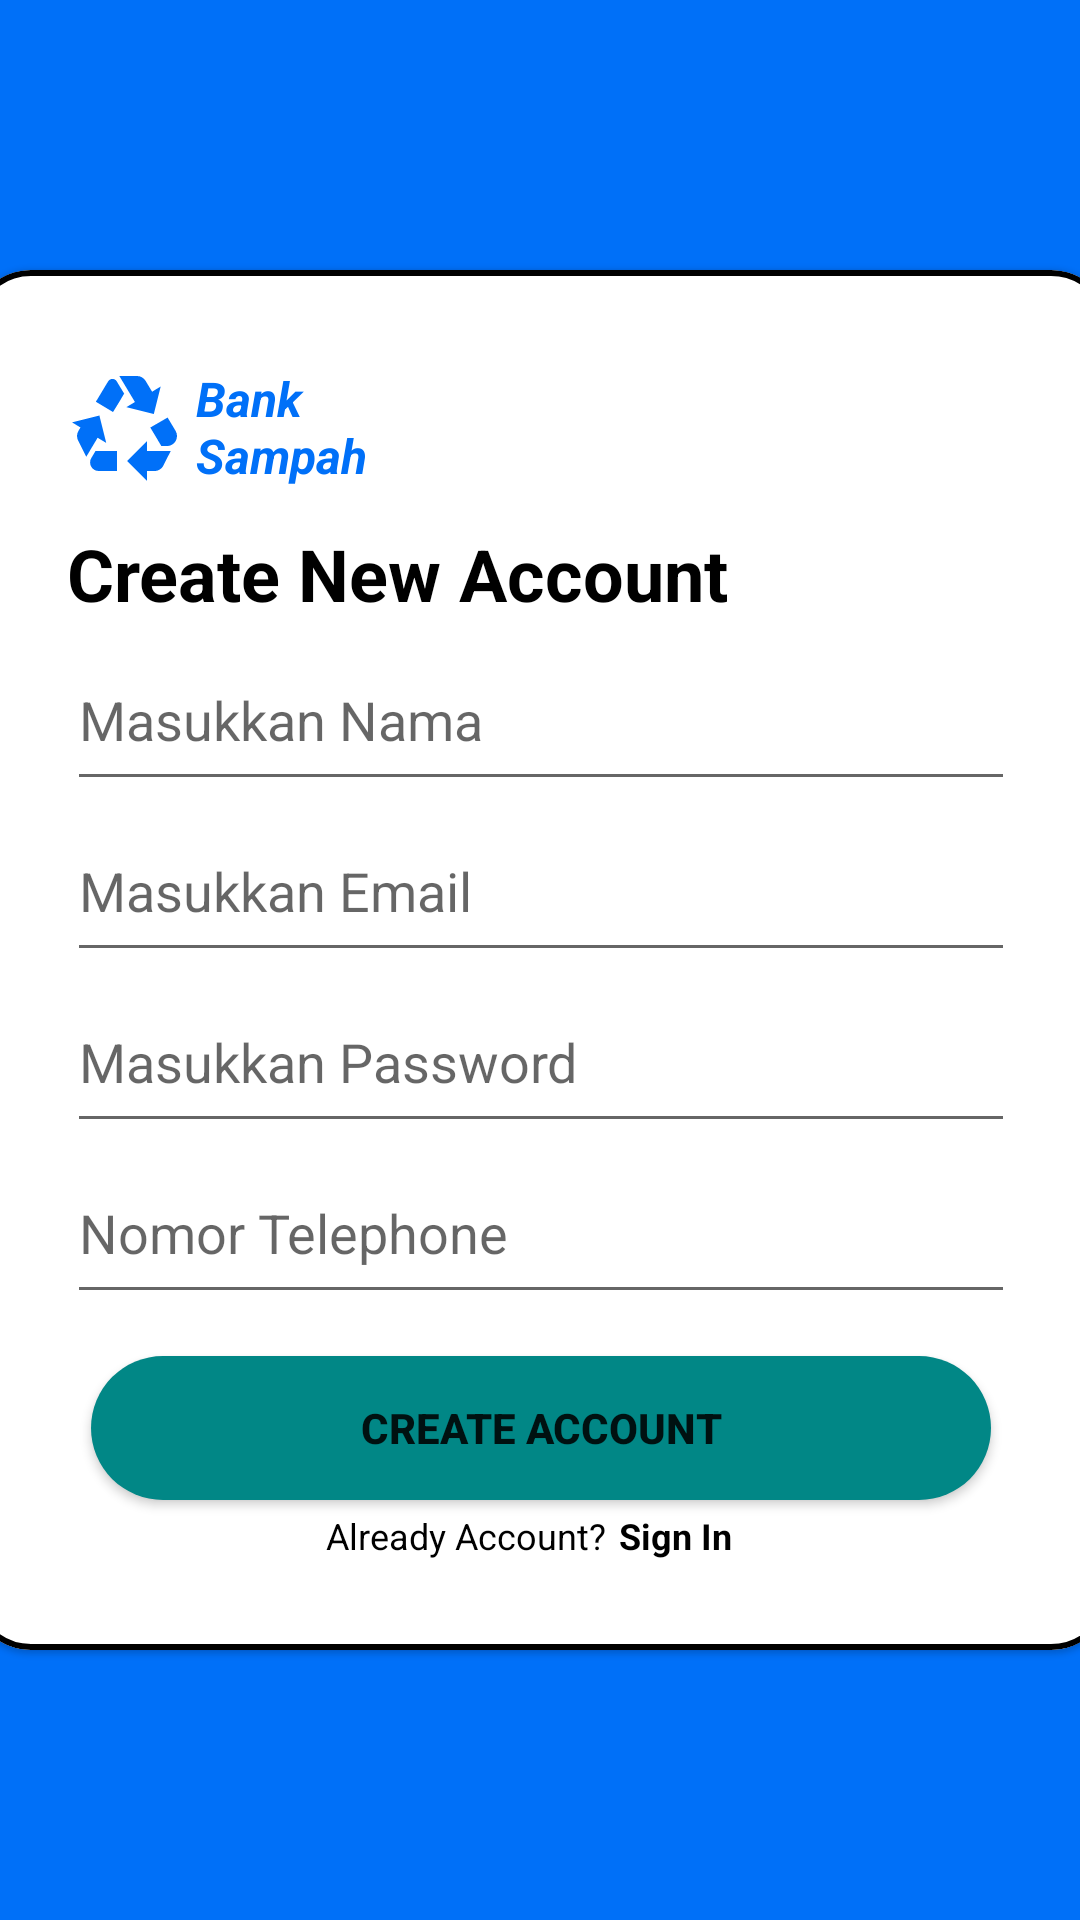

Icons on this 1080px×1920px Android screen, each with the point to tap as [x,y]:
recycling login: [124,428]
